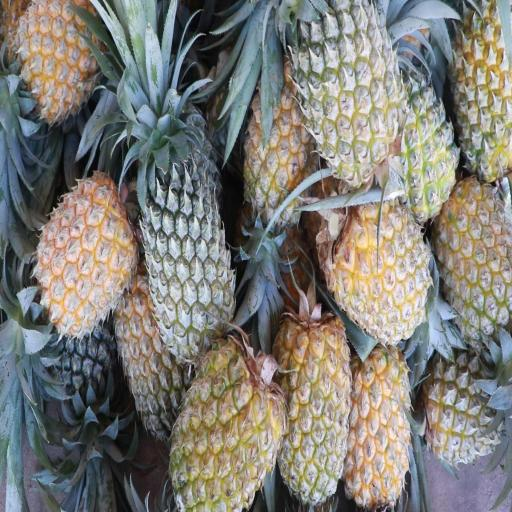------------------------------: (296, 0, 409, 181), (120, 274, 192, 438), (451, 12, 512, 177), (441, 188, 510, 330), (422, 354, 504, 466)
Pineapple - v8 v1: (167, 345, 283, 512), (41, 171, 136, 333), (331, 193, 432, 341), (276, 316, 350, 502), (17, 0, 112, 114), (347, 348, 412, 503), (246, 81, 310, 224), (392, 82, 458, 216)
